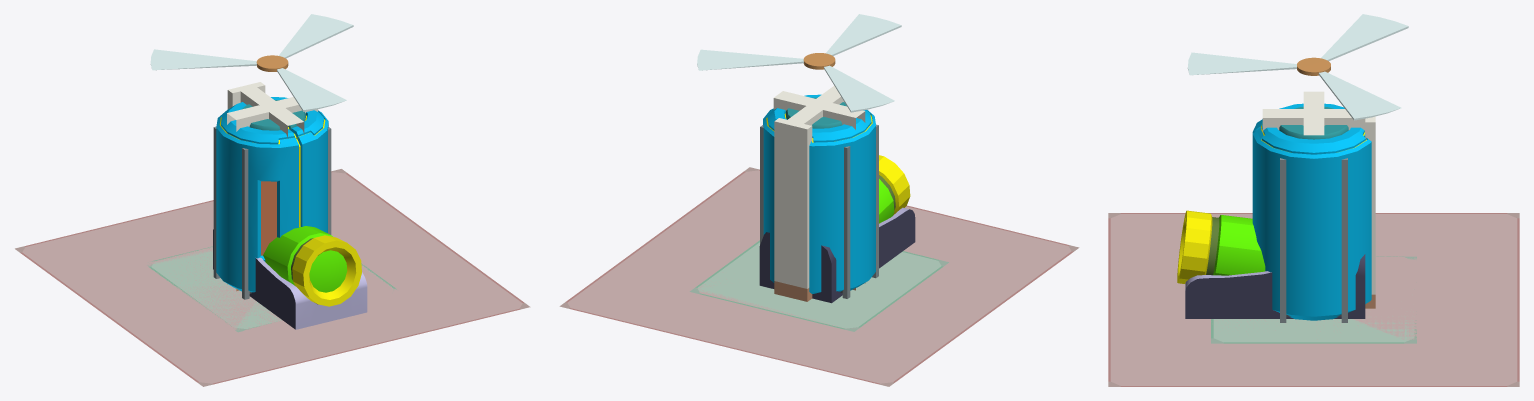
Rendered from models.fbx.
The picture shows the model from 3 angles, left to right: view 1: azimuth 30°, elevation 25°; view 2: azimuth 150°, elevation 25°; view 3: azimuth 270°, elevation 25°; orthographic projection. The views are drawn at different scales.
Visible parts, largest first — view 1: floor3, barrel_big, shell, fan, floor1, rack, wall_I, wall_X, wall_T; view 2: floor3, barrel_big, floor1, wall_cap2, fan, shell, rack, wall_X; view 3: floor3, barrel_big, shell, fan, floor1, rack, wall_I, wall_X, wall_cap2, wall_L.
Part boxes in pixels (x1=…): floor3: x1=15, y1=169, x2=530, y2=386; barrel_big: x1=216, y1=97, x2=328, y2=292; shell: x1=213, y1=226, x2=367, y2=329; fan: x1=150, y1=14, x2=353, y2=111; floor1: x1=147, y1=246, x2=396, y2=332; rack: x1=213, y1=126, x2=331, y2=299; wall_I: x1=240, y1=87, x2=304, y2=138; wall_X: x1=227, y1=88, x2=317, y2=291; wall_T: x1=228, y1=97, x2=317, y2=290; floor3: x1=559, y1=167, x2=1079, y2=386; barrel_big: x1=763, y1=94, x2=875, y2=293; floor1: x1=689, y1=240, x2=948, y2=331; wall_cap2: x1=774, y1=118, x2=812, y2=301; fan: x1=697, y1=14, x2=901, y2=112; shell: x1=759, y1=155, x2=915, y2=303; rack: x1=760, y1=124, x2=878, y2=298; wall_X: x1=773, y1=86, x2=865, y2=290; floor3: x1=1108, y1=213, x2=1519, y2=386; barrel_big: x1=1252, y1=103, x2=1371, y2=320; shell: x1=1177, y1=210, x2=1365, y2=318; fan: x1=1187, y1=14, x2=1408, y2=120; floor1: x1=1211, y1=256, x2=1416, y2=343; rack: x1=1280, y1=158, x2=1347, y2=322; wall_I: x1=1262, y1=109, x2=1365, y2=132; wall_X: x1=1262, y1=91, x2=1365, y2=135; wall_cap2: x1=1365, y1=116, x2=1375, y2=308; wall_L: x1=1303, y1=91, x2=1364, y2=128.
Size of the model in its own units: 400 by 252 by 400.
